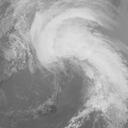cyclone: (28, 6, 90, 74)
